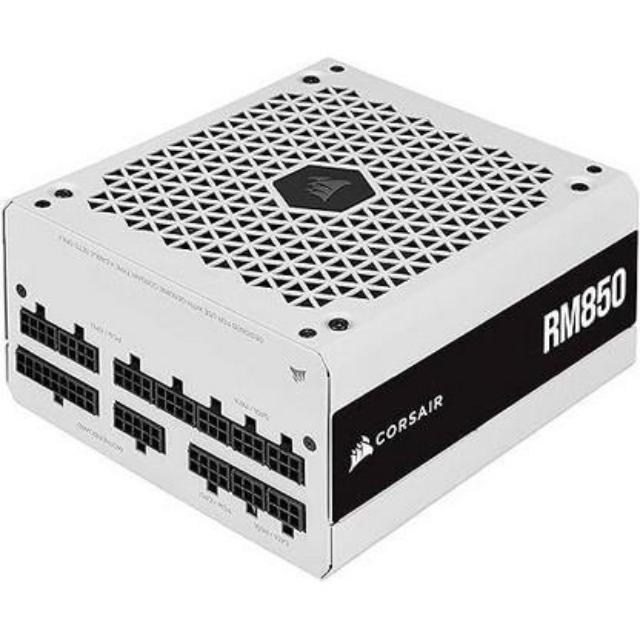PSU: (0, 39, 640, 584)
